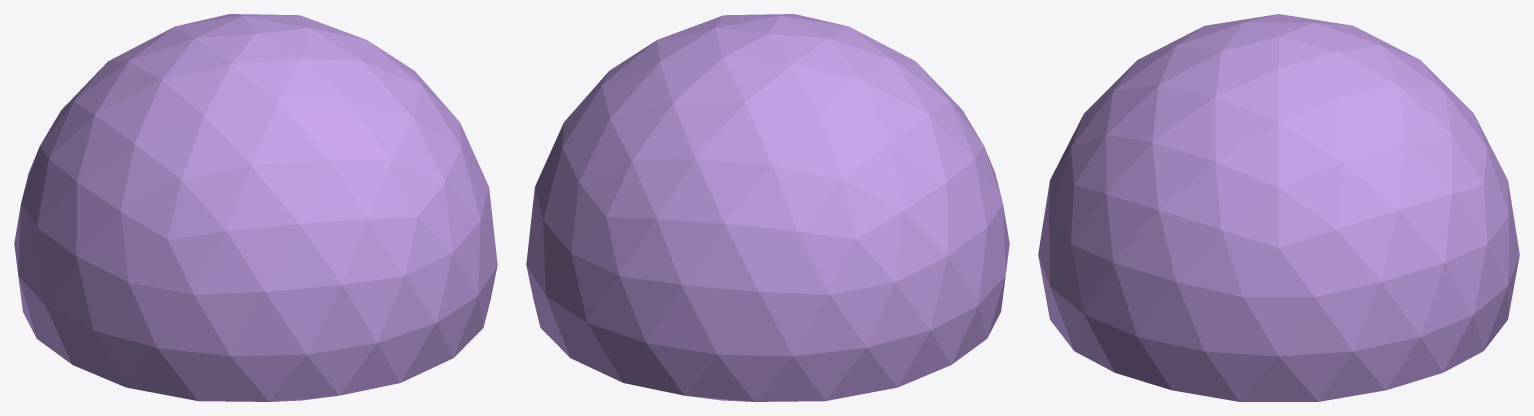
The model's file is jelly.gltf.
3 renders of one model, left to right at view 1: azimuth 30°, elevation 25°; view 2: azimuth 150°, elevation 25°; view 3: azimuth 270°, elevation 25°, orthographic.
Parts seen in each view (by area): view 1: Icosphere; view 2: Icosphere; view 3: Icosphere.
Boxes of the visible parts, box(x1,y1,x2,y2) form: Icosphere: box(14, 14, 497, 401); Icosphere: box(526, 14, 1009, 401); Icosphere: box(1038, 14, 1519, 401).
Bounding box in the file's own units: 0.5 × 0.3142 × 0.5.
